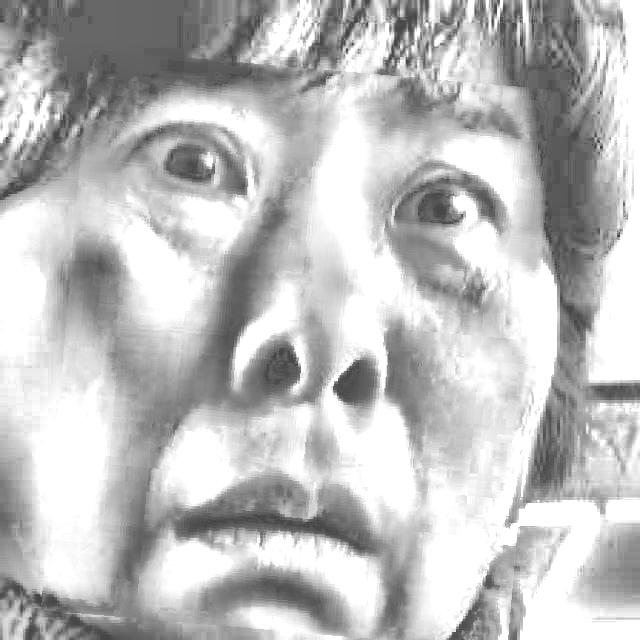fear: (53, 58, 544, 640)
